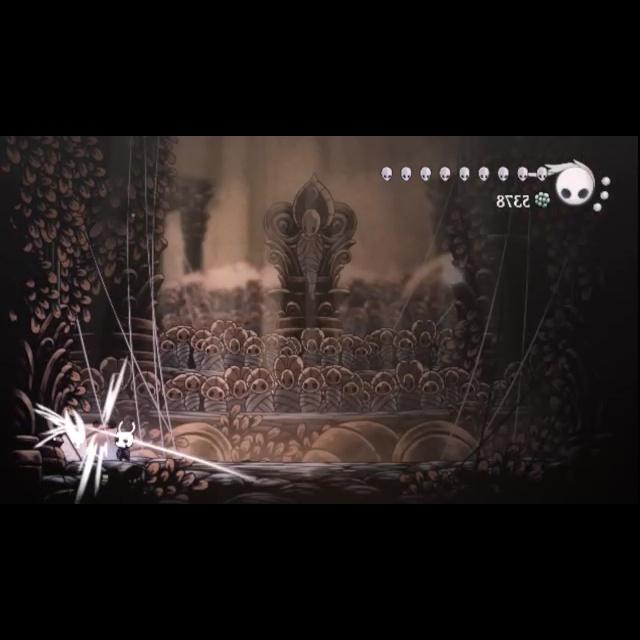EnemyDamaged: (34, 404, 94, 468)
Player: (110, 416, 140, 464)
